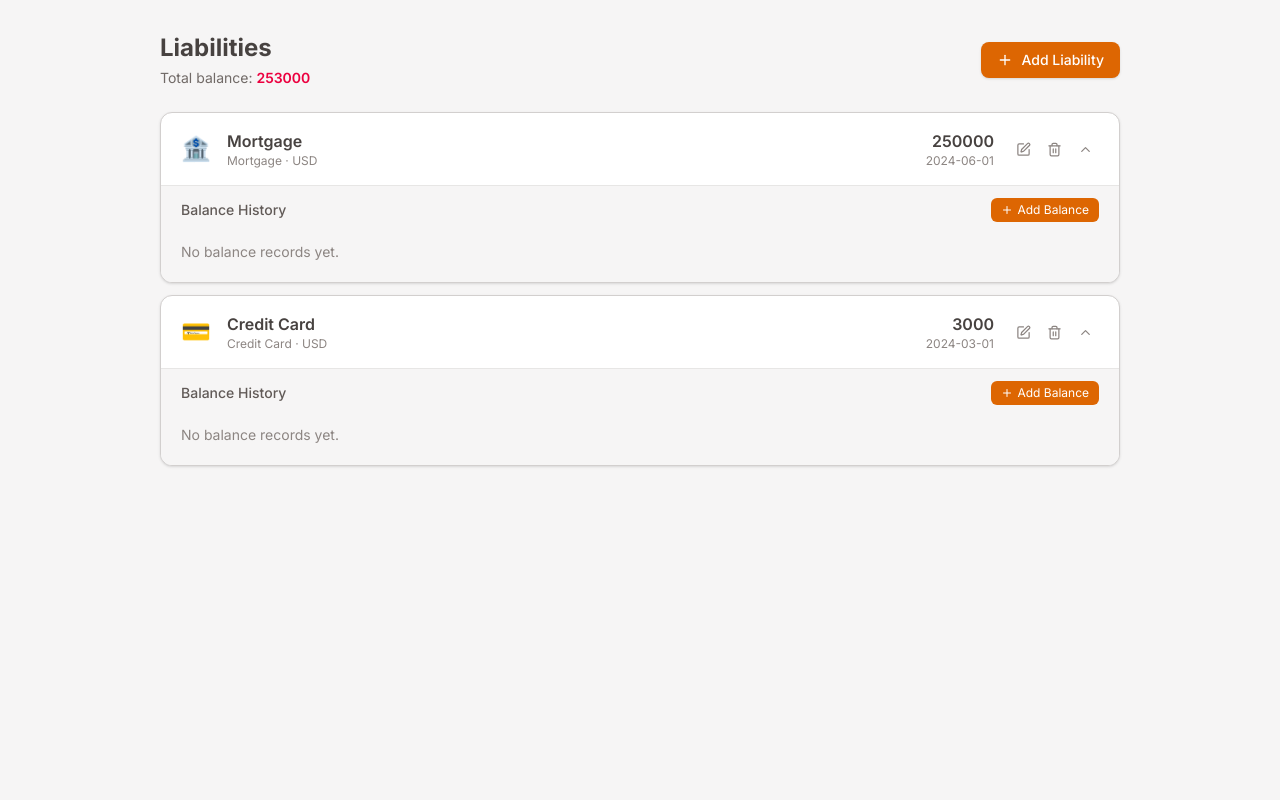
Test: LiabilityTracker › opens add liability modal when clicking add button
Expected: the heading "Mortgage" is shown, 227,131 -> 302,151
Click the button "Add Liability".
click(1051, 60)  # box 981,42 -> 1120,78
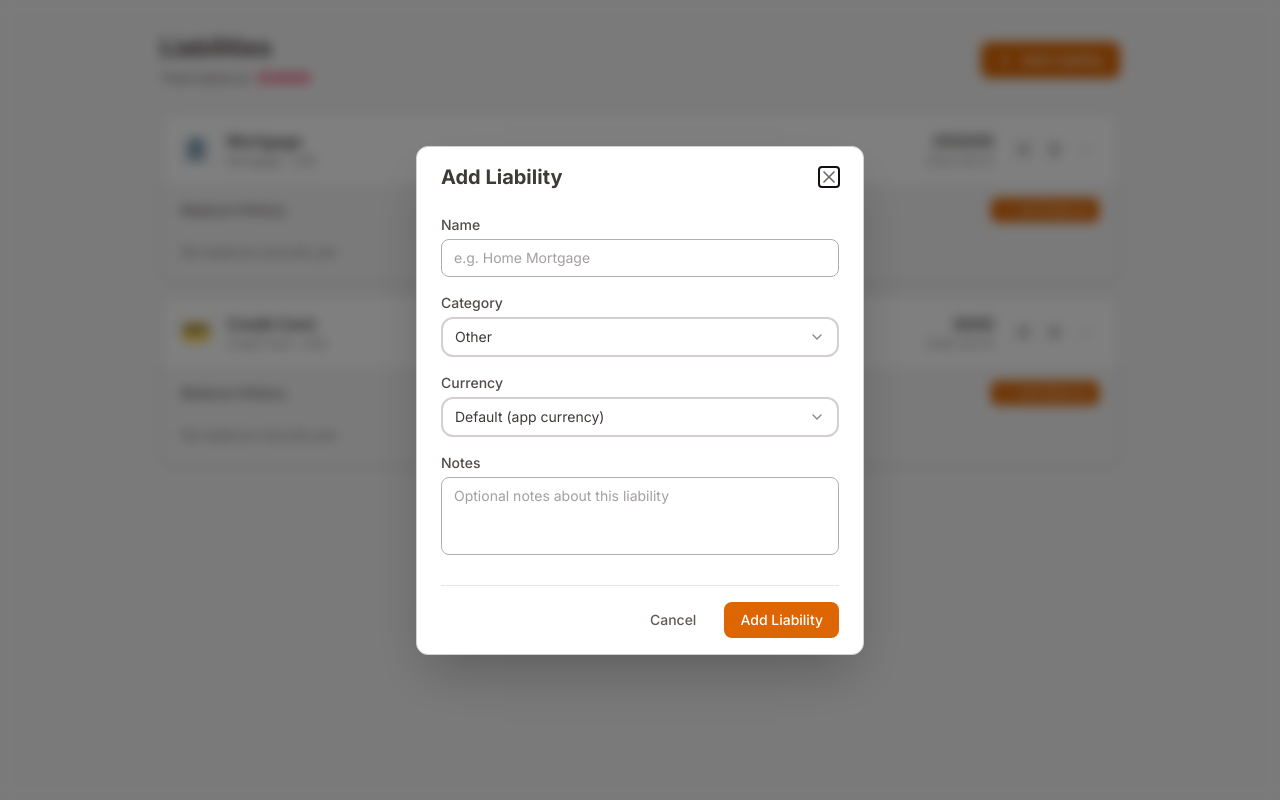
Expected: the text "Name" is shown, 441,216 -> 480,232
